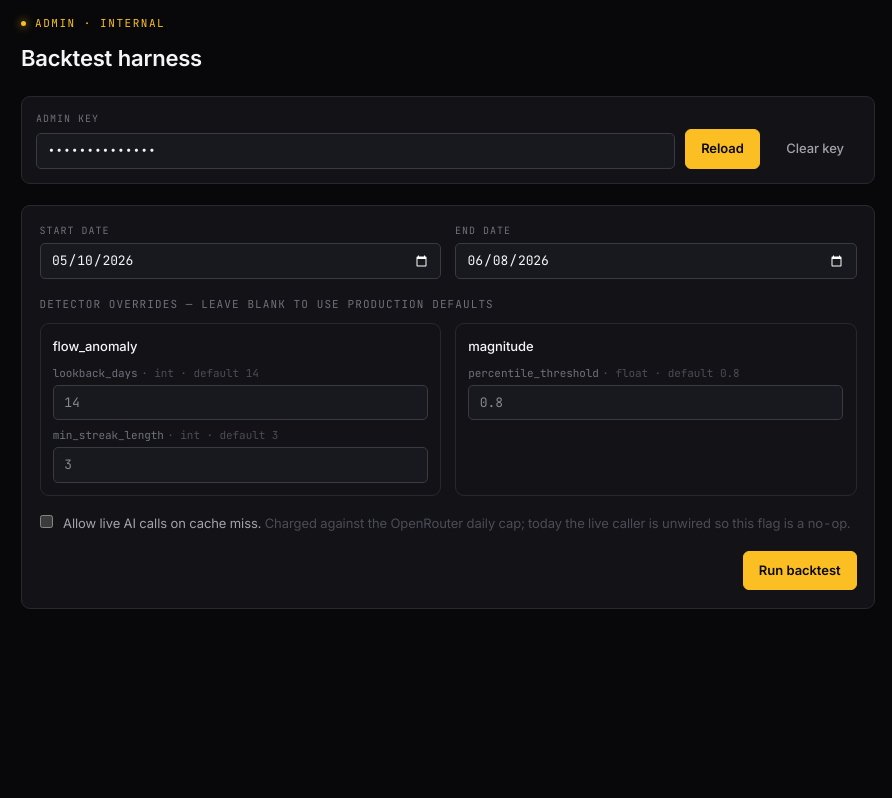
it: BacktestPage results › renders one row per detector in the report
Check: the text "flow_anomaly" is shown, box [53, 338, 137, 354]
Click the button "Run backtest".
click(800, 570)  # box [743, 550, 856, 590]
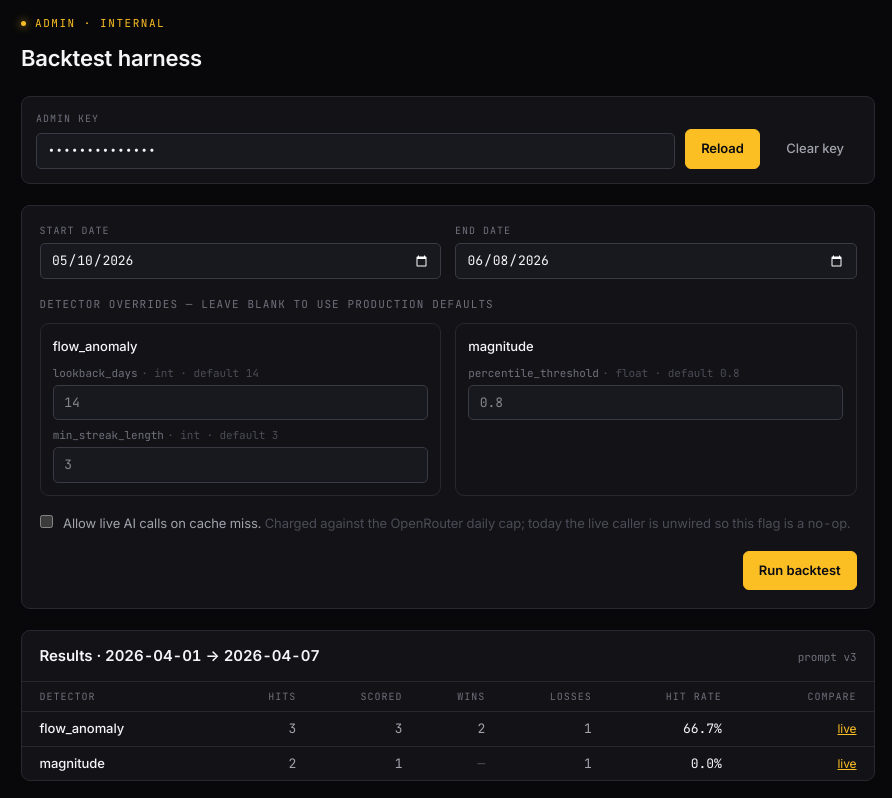
Check: the heading "Results · 2026-04-01 → 2026-04-07" is shown, box [40, 644, 320, 667]
Check: the number of rows is 3, box [22, 682, 874, 712]; [22, 712, 874, 746]; [22, 746, 874, 780]
Check: the text "66.7%" is shown, box [602, 712, 732, 746]
